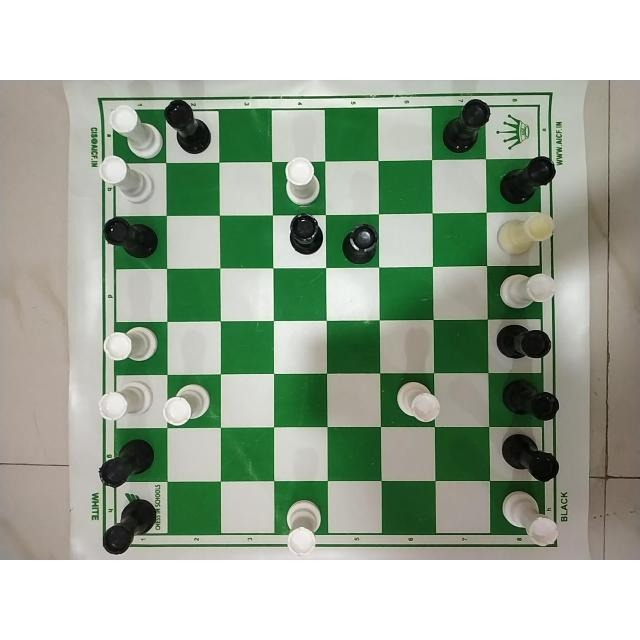black-rook: (499, 430, 565, 480), (98, 501, 161, 553), (96, 437, 156, 488), (500, 157, 560, 207), (500, 378, 566, 422), (492, 319, 555, 365), (164, 97, 214, 154), (442, 99, 494, 151), (99, 216, 159, 260), (282, 212, 325, 255), (339, 220, 380, 264)
white-rook: (500, 486, 560, 549), (107, 104, 163, 160), (100, 322, 163, 366), (495, 214, 559, 257), (97, 156, 157, 201), (97, 380, 156, 421), (499, 271, 557, 312), (281, 156, 325, 208), (280, 498, 321, 553), (161, 383, 212, 425), (394, 381, 443, 423)
